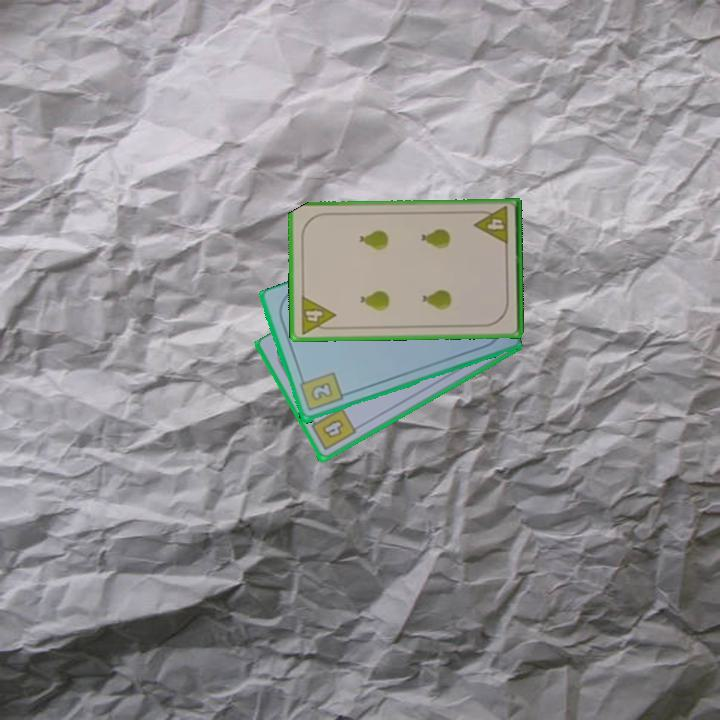2b: (296, 369, 345, 414)
4b: (306, 405, 359, 454)
4p: (297, 292, 338, 337), (471, 203, 511, 248)
